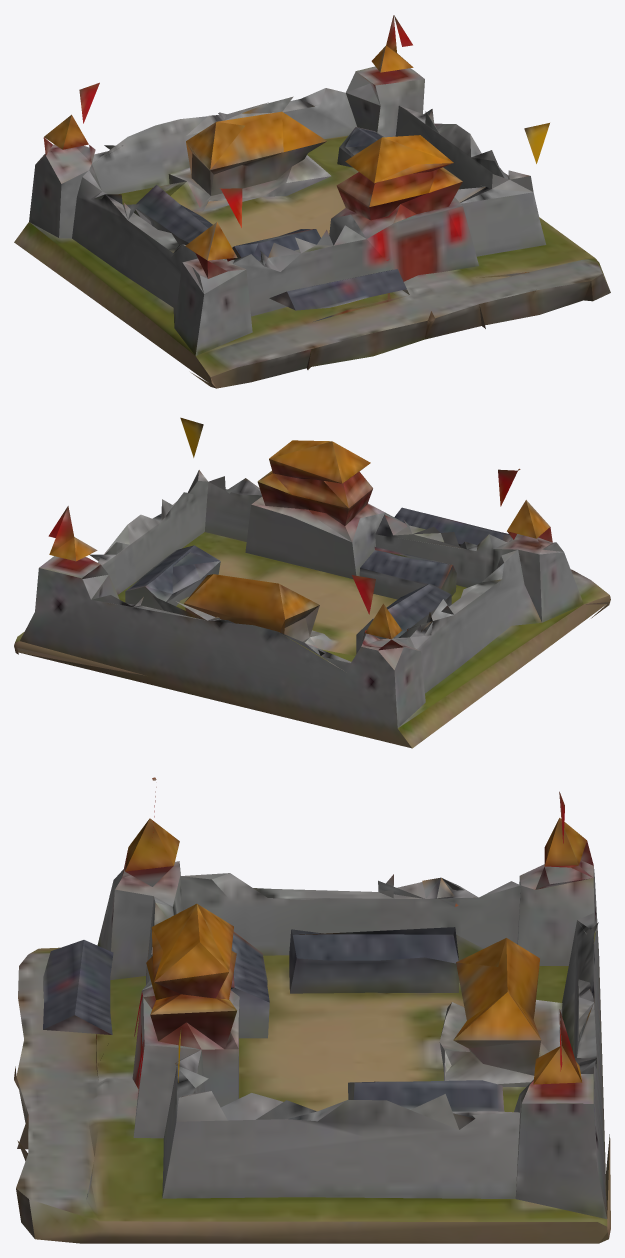
Rendered from camp_ming_3_far.glb.
The picture shows the model from 3 angles, top to bottom: view 1: azimuth 30°, elevation 25°; view 2: azimuth 150°, elevation 25°; view 3: azimuth 270°, elevation 25°; orthographic projection. The views are drawn at different scales.
Visible parts, largest first — view 1: camp_ming_3_far; view 2: camp_ming_3_far; view 3: camp_ming_3_far.
Boxes of the visible parts, left/top/right/bottom form: camp_ming_3_far: left=14, top=15, right=610, bottom=388; camp_ming_3_far: left=14, top=417, right=610, bottom=748; camp_ming_3_far: left=14, top=777, right=610, bottom=1243.
Size of the model in its own units: 1 by 0.3687 by 0.8934.
1 material, 1 textured.
